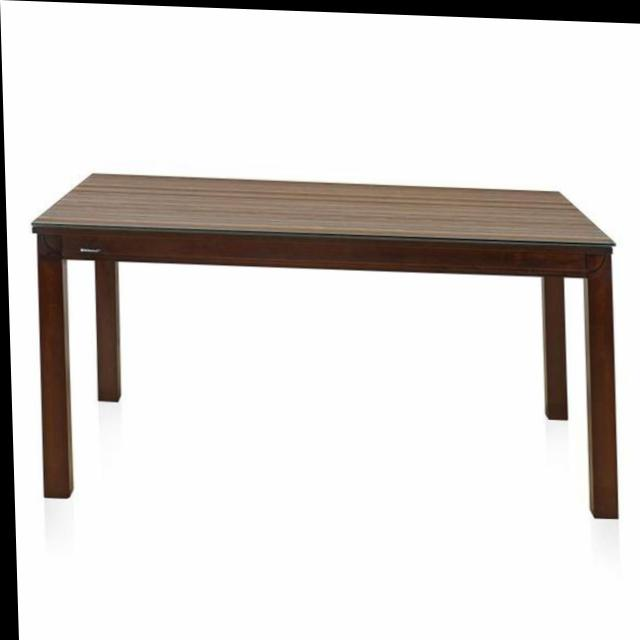Table: (16, 150, 630, 572)
